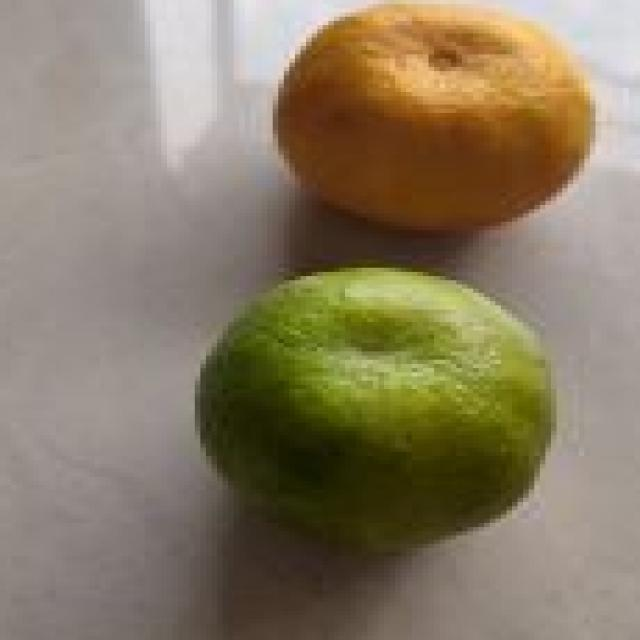Good_Orange-15-21 days: (189, 264, 557, 561), (267, 0, 595, 238)
